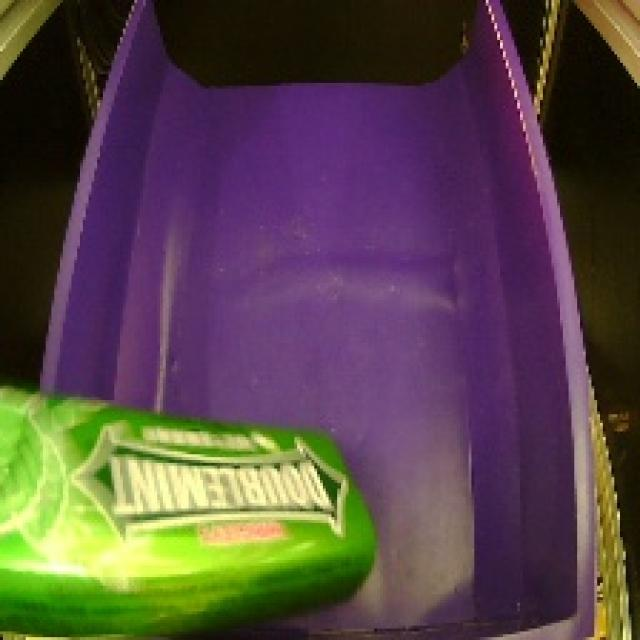metal: (0, 365, 385, 640)
